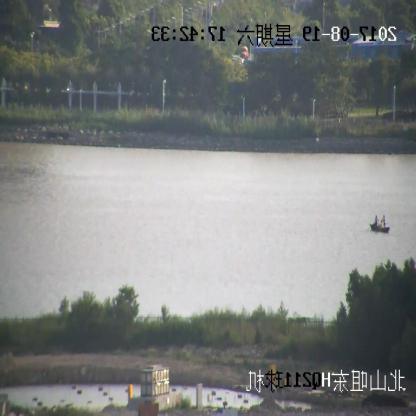Fishing Boat: (370, 216, 390, 232)
